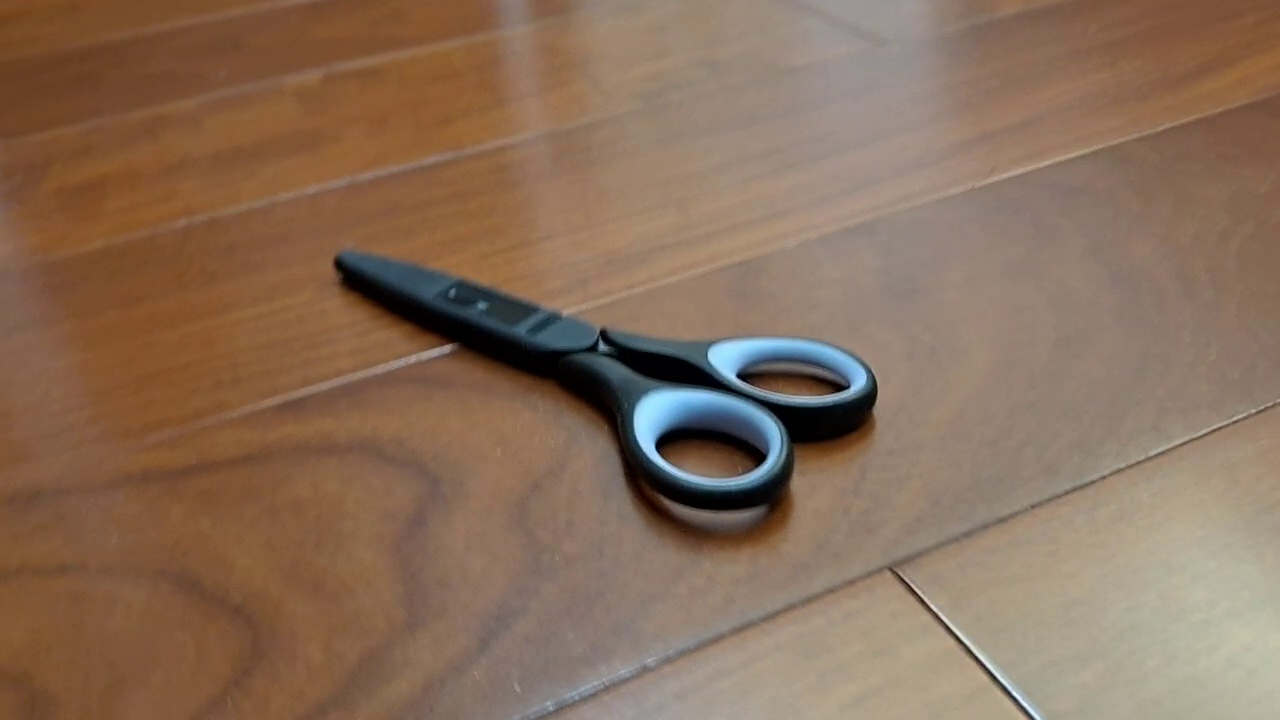scissors: (332, 246, 878, 514)
